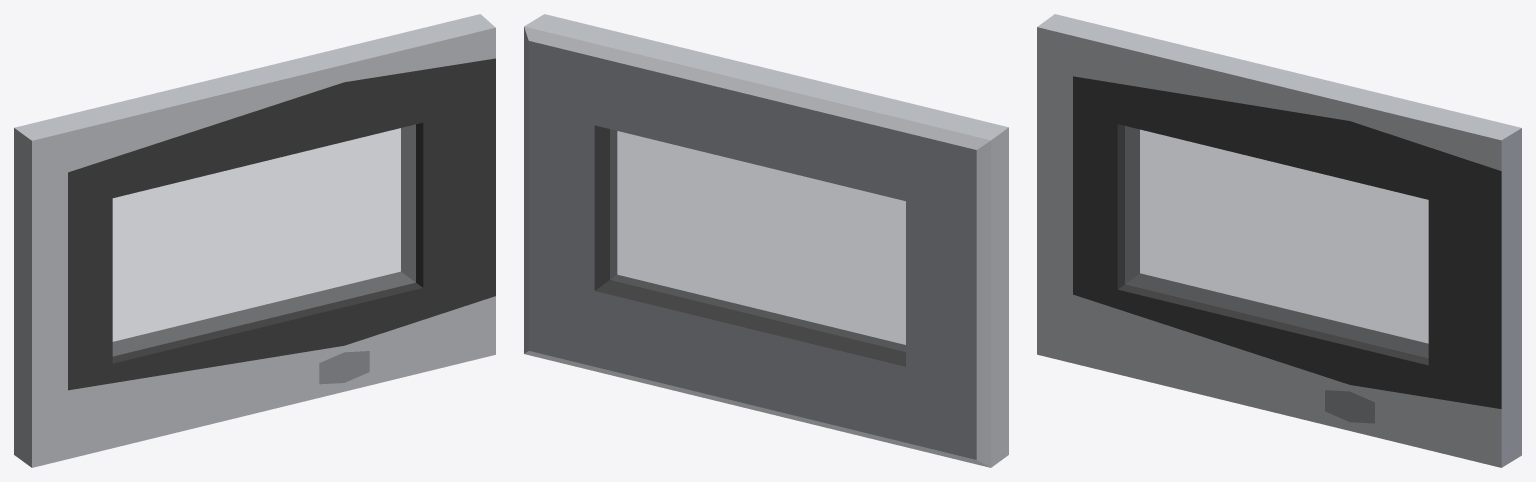
The model's file is SM_Prop_Microwave_Door_01.obj.
3 renders of one model, left to right at view 1: azimuth 30°, elevation 25°; view 2: azimuth 150°, elevation 25°; view 3: azimuth 330°, elevation 25°, orthographic.
Parts seen in each view (by area): view 1: SM_Prop_Microwave_Door_01_1, SM_Prop_Microwave_Door_01_0; view 2: SM_Prop_Microwave_Door_01_1, SM_Prop_Microwave_Door_01_0; view 3: SM_Prop_Microwave_Door_01_1, SM_Prop_Microwave_Door_01_0.
Boxes of the visible parts, bbox=[...] form: SM_Prop_Microwave_Door_01_1: bbox=[14, 14, 495, 467]; SM_Prop_Microwave_Door_01_0: bbox=[112, 124, 415, 356]; SM_Prop_Microwave_Door_01_1: bbox=[524, 14, 1008, 467]; SM_Prop_Microwave_Door_01_0: bbox=[610, 129, 905, 351]; SM_Prop_Microwave_Door_01_1: bbox=[1037, 14, 1521, 467]; SM_Prop_Microwave_Door_01_0: bbox=[1125, 126, 1428, 357].
Bounding box in the file's own units: 0.4253 × 0.2851 × 0.0352.
2 materials, 2 textured.
